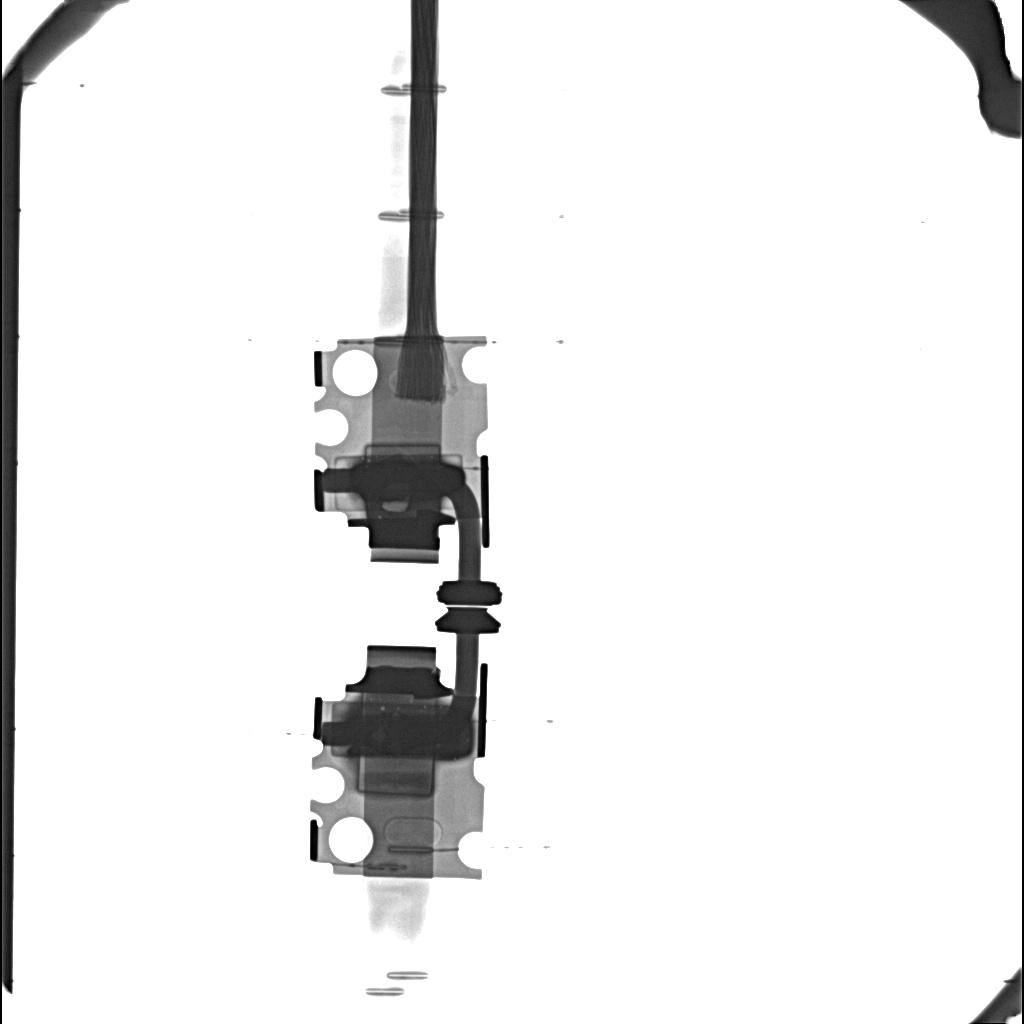PX: (356, 760, 434, 797), (363, 443, 442, 460)
QP: (382, 500, 408, 513)
SX: (348, 712, 472, 759), (349, 461, 465, 501)
